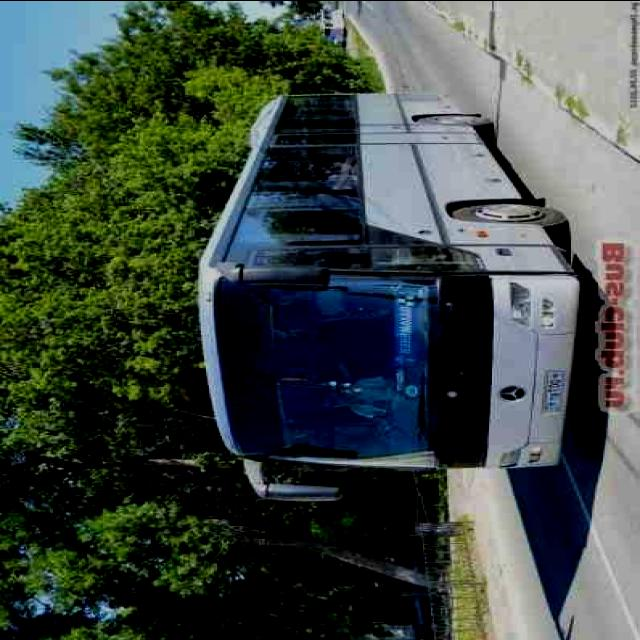bus: (197, 88, 588, 503)
